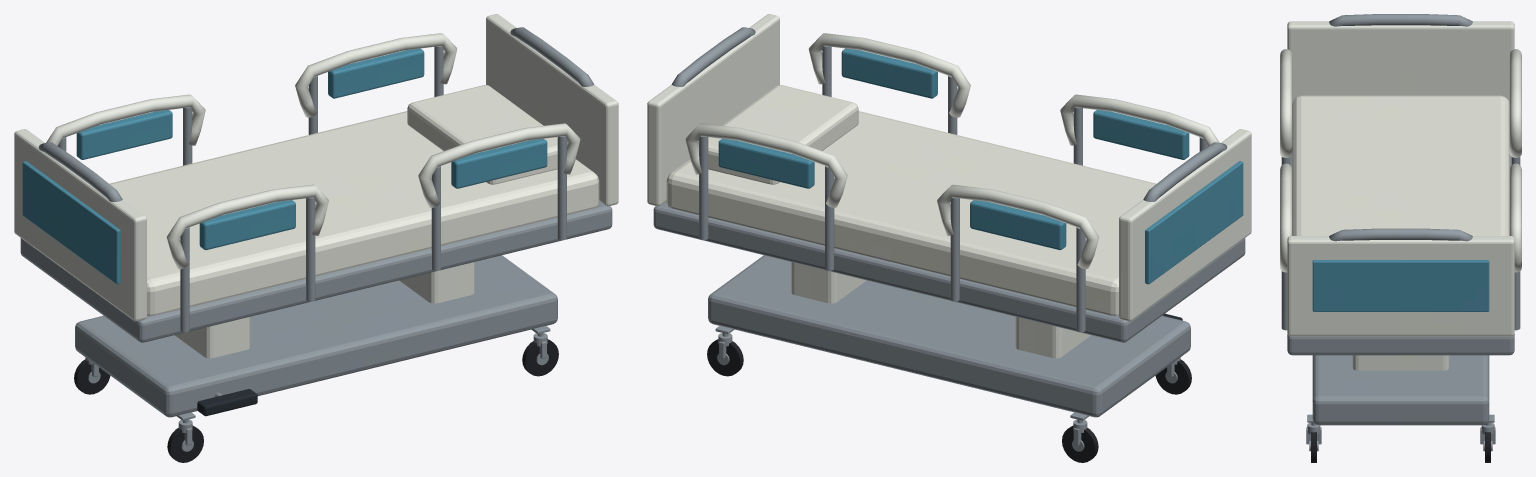
Rendered from hospital-bed-flat-mattress.glb.
3 views of the same model, side by side, from view 1: azimuth 30°, elevation 25°; view 2: azimuth 150°, elevation 25°; view 3: azimuth 270°, elevation 25° (orthographic). The views are drawn at different scales.
Parts seen in each view (by area): view 1: Patient mattress, Patient bed rolling base, Bed mattress platform, Bed end panel.001, Bed end panel, Bed pillow, Inset end panel, Side rail center panel.002, Side rail center panel.003, Side rail center panel, Side rail center panel.001, Bed side safety rail.003 (+15 smaller); view 2: Patient mattress, Patient bed rolling base, Bed mattress platform, Bed end panel.001, Bed end panel, Bed pillow, Inset end panel, Side rail center panel, Side rail center panel.001, Side rail center panel.002, Side rail center panel.003, Bed side safety rail.001 (+14 smaller); view 3: Patient mattress, Bed end panel, Bed end panel.001, Patient bed rolling base, Inset end panel.001, Bed mattress platform, End lifting grip.001, End lifting grip, Lift pedestal.001, Bed side safety rail, Bed side safety rail.002, Bed side safety rail.001 (+3 smaller).
Part boxes in pixels (left/top/right/bottom): Patient mattress: left=109, top=111, right=599, bottom=315; Patient bed rolling base: left=75, top=255, right=557, bottom=417; Bed mattress platform: left=20, top=201, right=612, bottom=342; Bed end panel.001: left=486, top=14, right=618, bottom=206; Bed end panel: left=14, top=129, right=146, bottom=321; Bed pillow: left=407, top=85, right=557, bottom=184; Inset end panel: left=22, top=161, right=120, bottom=284; Side rail center panel.002: left=76, top=110, right=172, bottom=159; Side rail center panel.003: left=328, top=48, right=424, bottom=98; Side rail center panel: left=199, top=200, right=295, bottom=250; Side rail center panel.001: left=451, top=138, right=547, bottom=188; Bed side safety rail.003: left=295, top=33, right=457, bottom=117; Patient mattress: left=666, top=111, right=1156, bottom=315; Patient bed rolling base: left=708, top=255, right=1190, bottom=417; Bed mattress platform: left=653, top=201, right=1245, bottom=342; Bed end panel.001: left=647, top=14, right=779, bottom=206; Bed end panel: left=1119, top=129, right=1251, bottom=321; Bed pillow: left=708, top=85, right=858, bottom=184; Inset end panel: left=1145, top=161, right=1243, bottom=284; Side rail center panel: left=1093, top=110, right=1189, bottom=159; Side rail center panel.001: left=841, top=48, right=937, bottom=98; Side rail center panel.002: left=970, top=200, right=1066, bottom=250; Side rail center panel.003: left=718, top=138, right=814, bottom=188; Bed side safety rail.001: left=808, top=33, right=970, bottom=117; Patient mattress: left=1292, top=95, right=1509, bottom=235; Bed end panel: left=1287, top=21, right=1514, bottom=103; Bed end panel.001: left=1287, top=236, right=1514, bottom=336; Patient bed rolling base: left=1312, top=355, right=1489, bottom=425; Inset end panel.001: left=1312, top=260, right=1489, bottom=311; Bed mattress platform: left=1287, top=154, right=1514, bottom=355; End lifting grip.001: left=1329, top=228, right=1472, bottom=241; End lifting grip: left=1329, top=14, right=1472, bottom=26; Lift pedestal.001: left=1352, top=355, right=1449, bottom=370; Bed side safety rail: left=1280, top=49, right=1292, bottom=157; Bed side safety rail.002: left=1509, top=49, right=1521, bottom=157; Bed side safety rail.001: left=1280, top=163, right=1292, bottom=272.
Size of the model in its own units: 2.2 by 1.18 by 1.
Materials: 6 (6 with a texture image).
